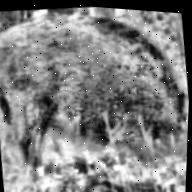boar: (0, 9, 192, 171)
